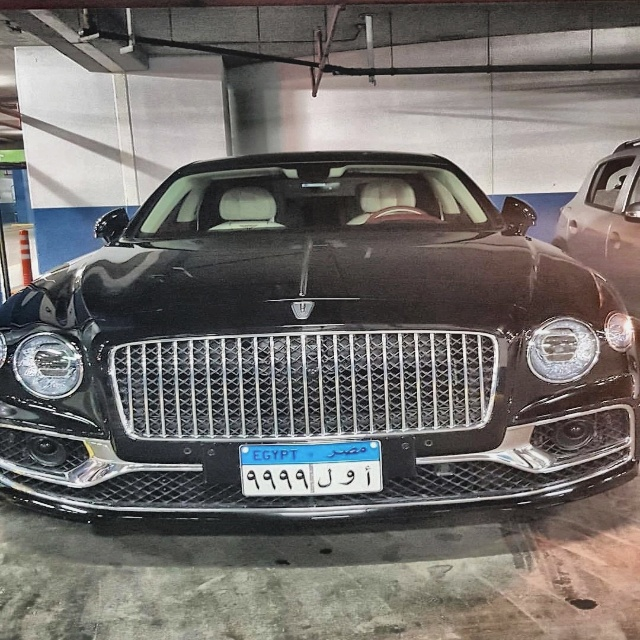License Plate: (238, 439, 386, 500)
